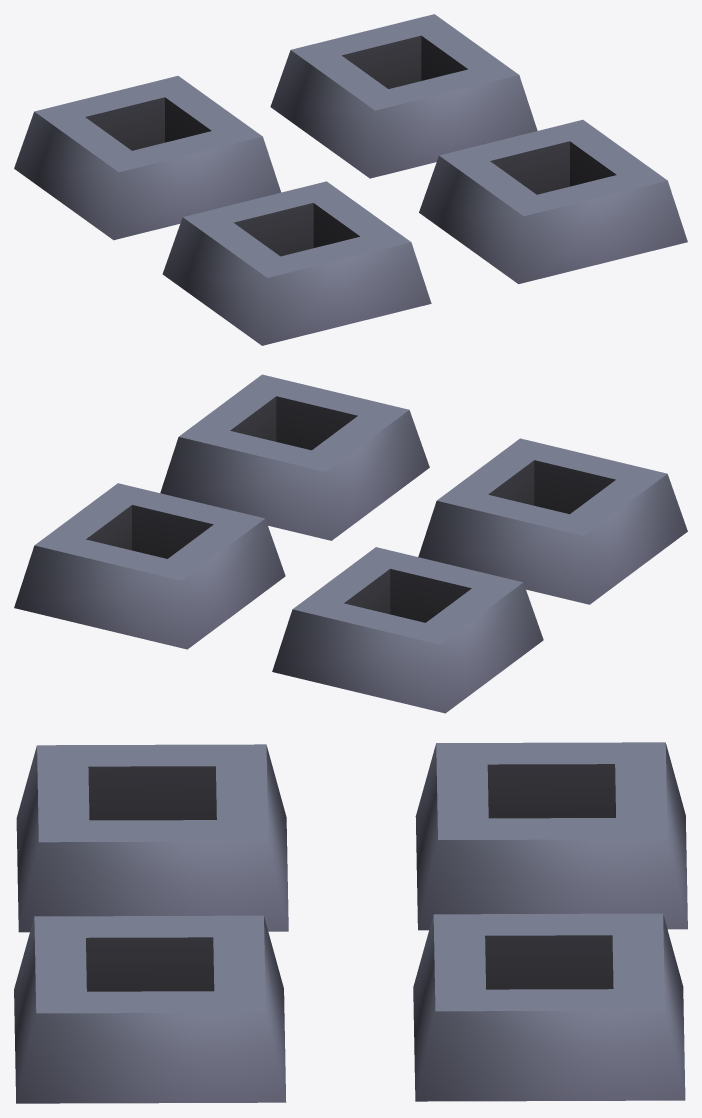
Rendered from trap.004_lev5.glb.
3 renders of one model, top to bottom at view 1: azimuth 30°, elevation 25°; view 2: azimuth 150°, elevation 25°; view 3: azimuth 270°, elevation 25°, orthographic. The views are drawn at different scales.
Parts seen in each view (by area): view 1: trap.004_lev5; view 2: trap.004_lev5; view 3: trap.004_lev5.
Part boxes in pixels (x1=…): trap.004_lev5: x1=14, y1=14, x2=687, y2=345; trap.004_lev5: x1=14, y1=374, x2=687, y2=713; trap.004_lev5: x1=14, y1=742, x2=687, y2=1103.
Size of the model in its own units: 2.58 by 0.34 by 2.55.
1 material, 1 textured.
